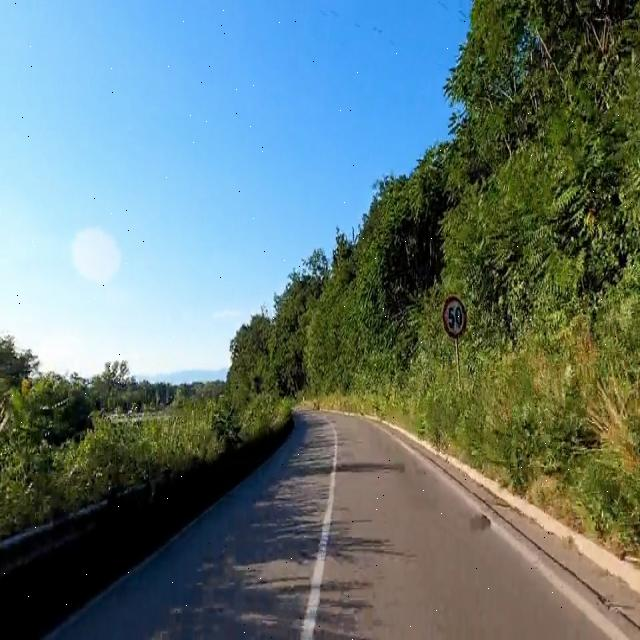lane: (301, 429, 338, 640), (301, 427, 337, 639)
road: (53, 412, 633, 638)
